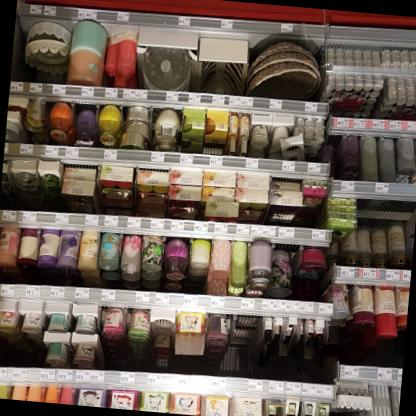empty_space: (359, 192, 416, 227)
